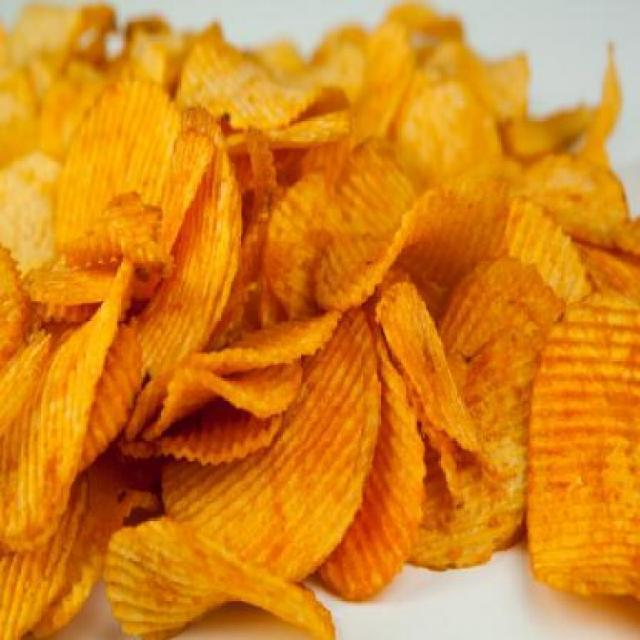Chips packaged: (19, 52, 626, 610)
